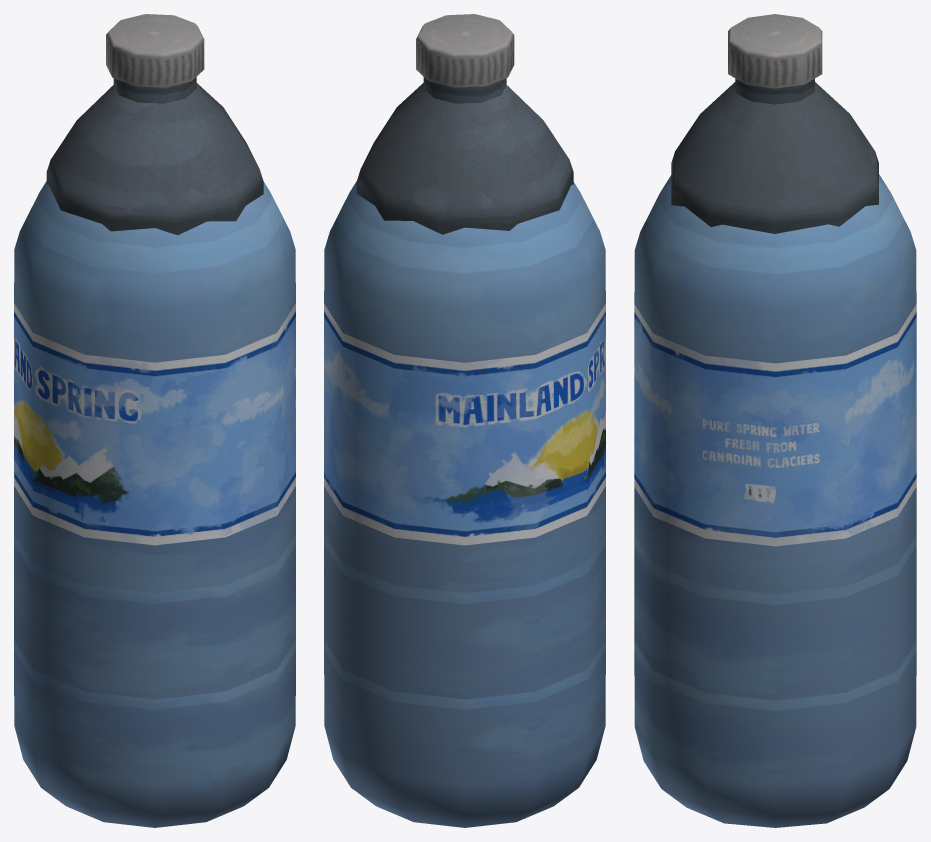
File: GEAR_Water1000ml.glb
3 renders of one model, left to right at view 1: azimuth 30°, elevation 25°; view 2: azimuth 150°, elevation 25°; view 3: azimuth 270°, elevation 25°, orthographic.
Visible parts, largest first — view 1: Water1000ml_LOD0, Water1000ml_Old; view 2: Water1000ml_LOD0, Water1000ml_Old; view 3: Water1000ml_LOD0, Water1000ml_Old.
Part boxes in pixels (<box>): Water1000ml_LOD0: <box>14,181,295,827</box>; Water1000ml_Old: <box>46,14,263,235</box>; Water1000ml_LOD0: <box>324,181,605,827</box>; Water1000ml_Old: <box>356,14,573,234</box>; Water1000ml_LOD0: <box>634,174,916,827</box>; Water1000ml_Old: <box>671,14,878,233</box>.
Size of what is drawn, in the model's own units: 0.1118 by 0.3301 by 0.1118.
Materials: 3 (3 with a texture image).
